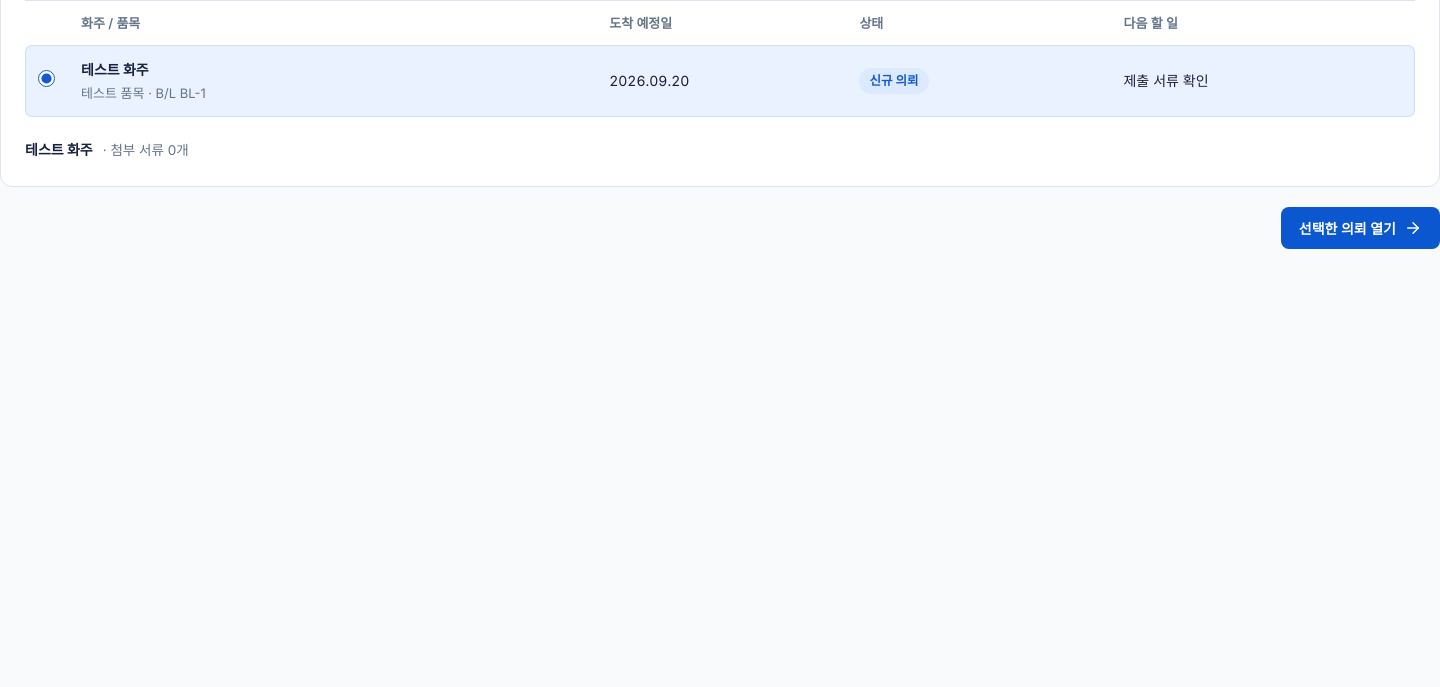
Test: forwarder task tabs › 서류를 골라 보완 요청을 보낸다 — 없는 필수 서류는 미리 골라 둔다
The width and height of the screenshot is (1440, 687).
Click the button "선택한 의뢰 열기" at (1360,228), box [1281,207,1439,249]
(page scrolled)
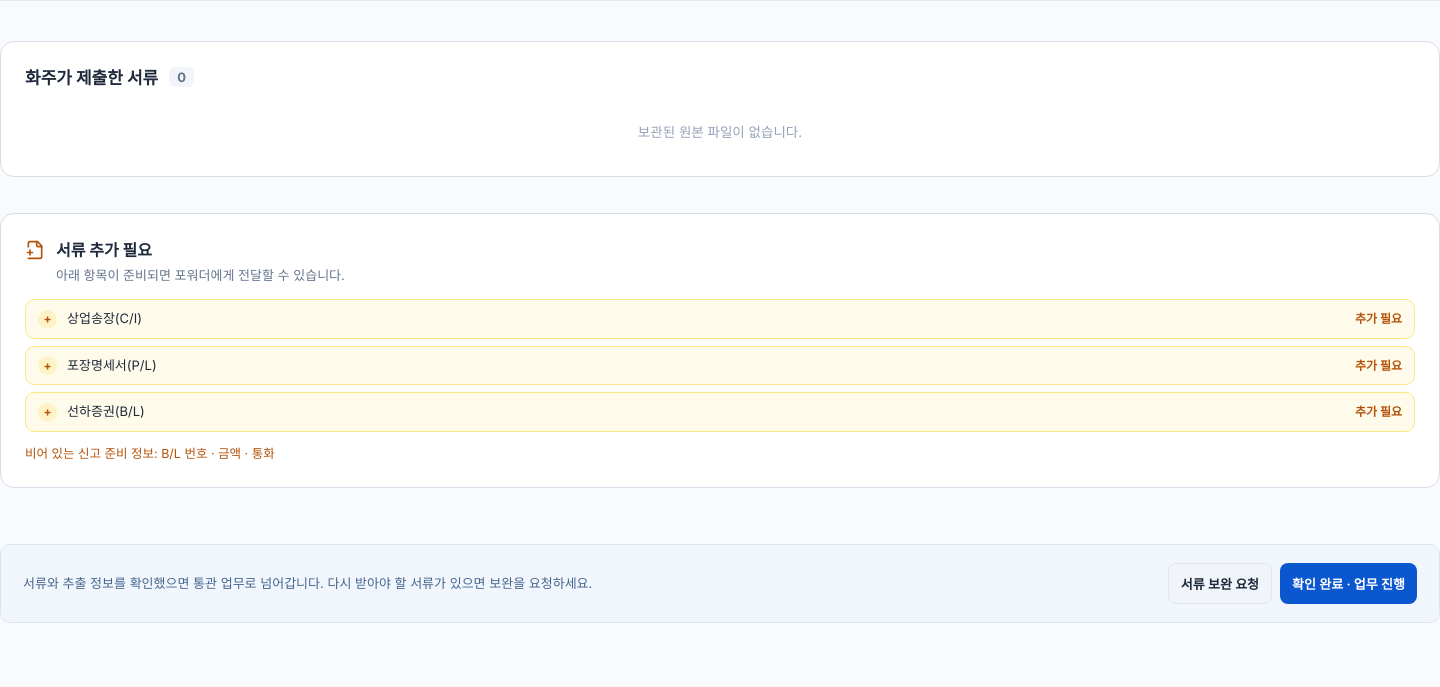
Click the button "서류 보완 요청" at (1220,584), box [1168,563,1272,604]
(page scrolled)
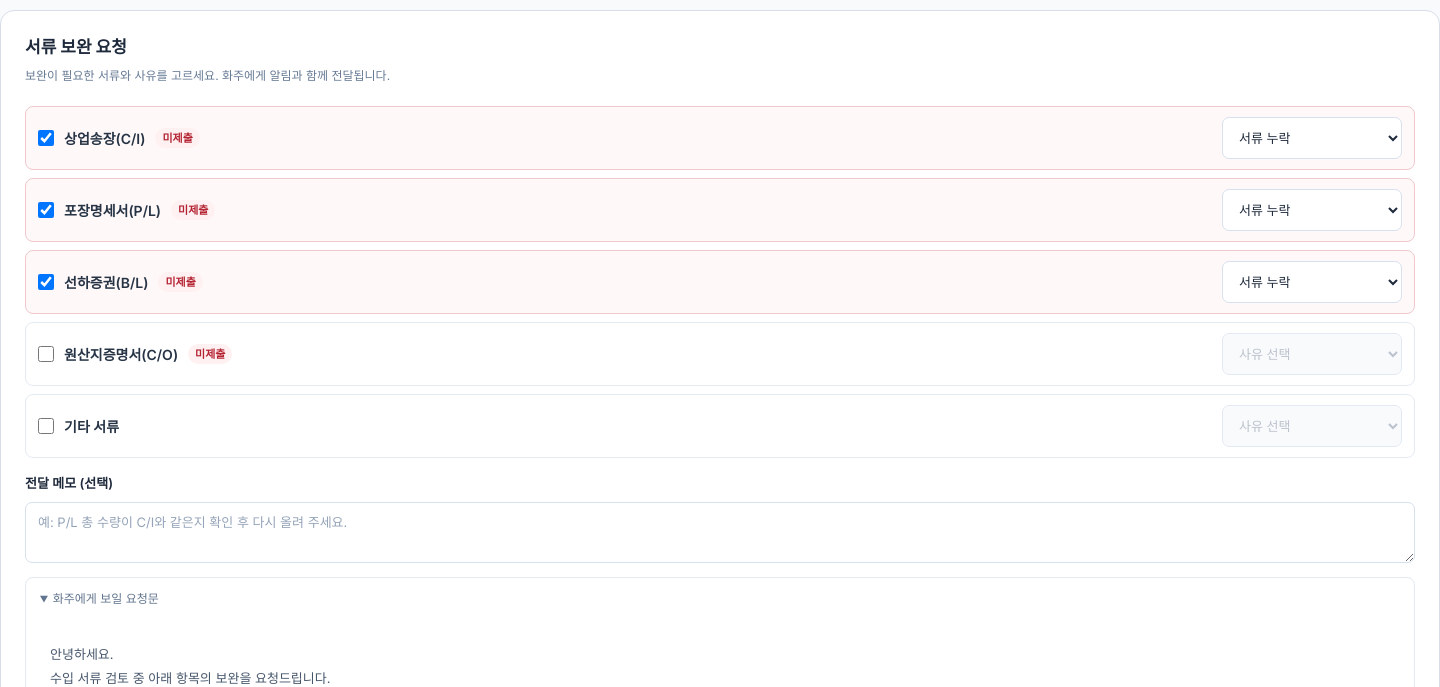
Result: the checkbox labelled "원산지증명서(C/O) 미제출" is not checked at [38,346,54,362]
Click the checkbox labelled "선하증권(B/L) 미제출" at (46,282), box [38,274,54,290]
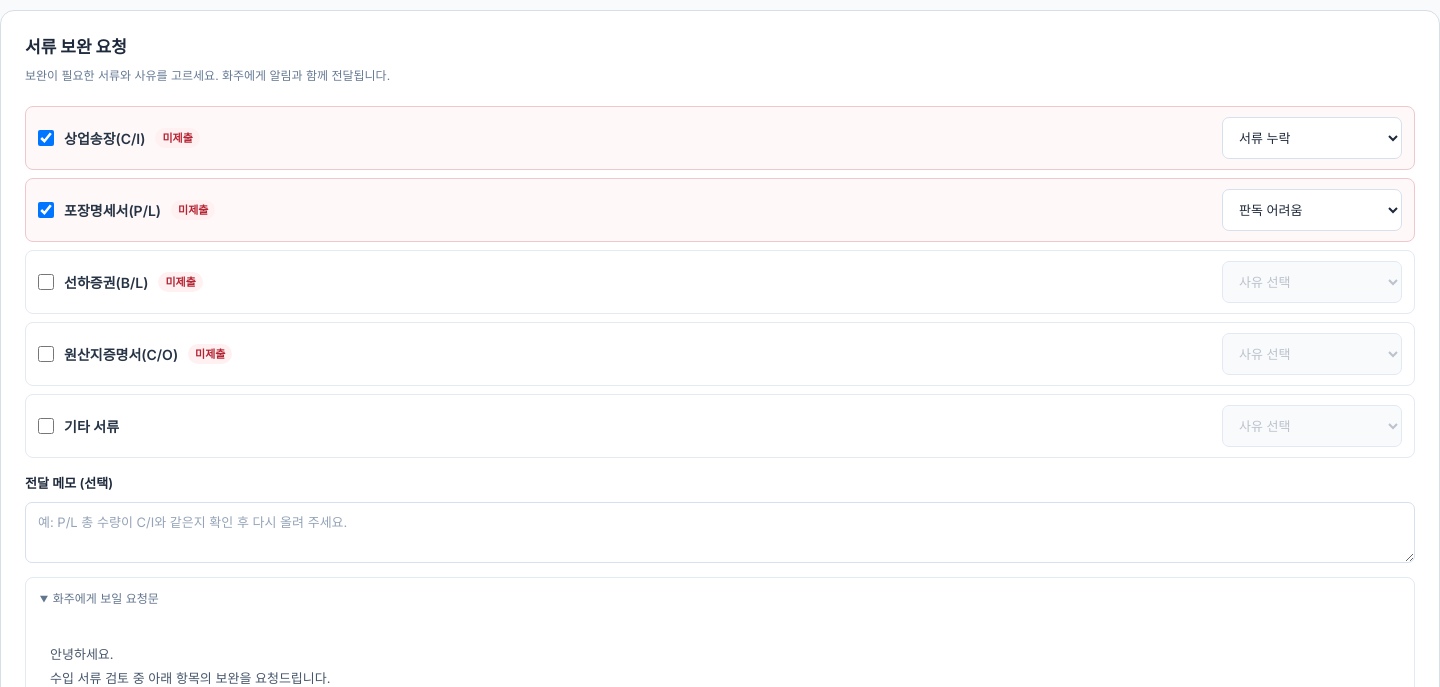
Select "판독 어려움" in the dropdown named "포장명세서(P/L) 보완 사유" at (1312,210), box [1222,189,1402,231]
(page scrolled)
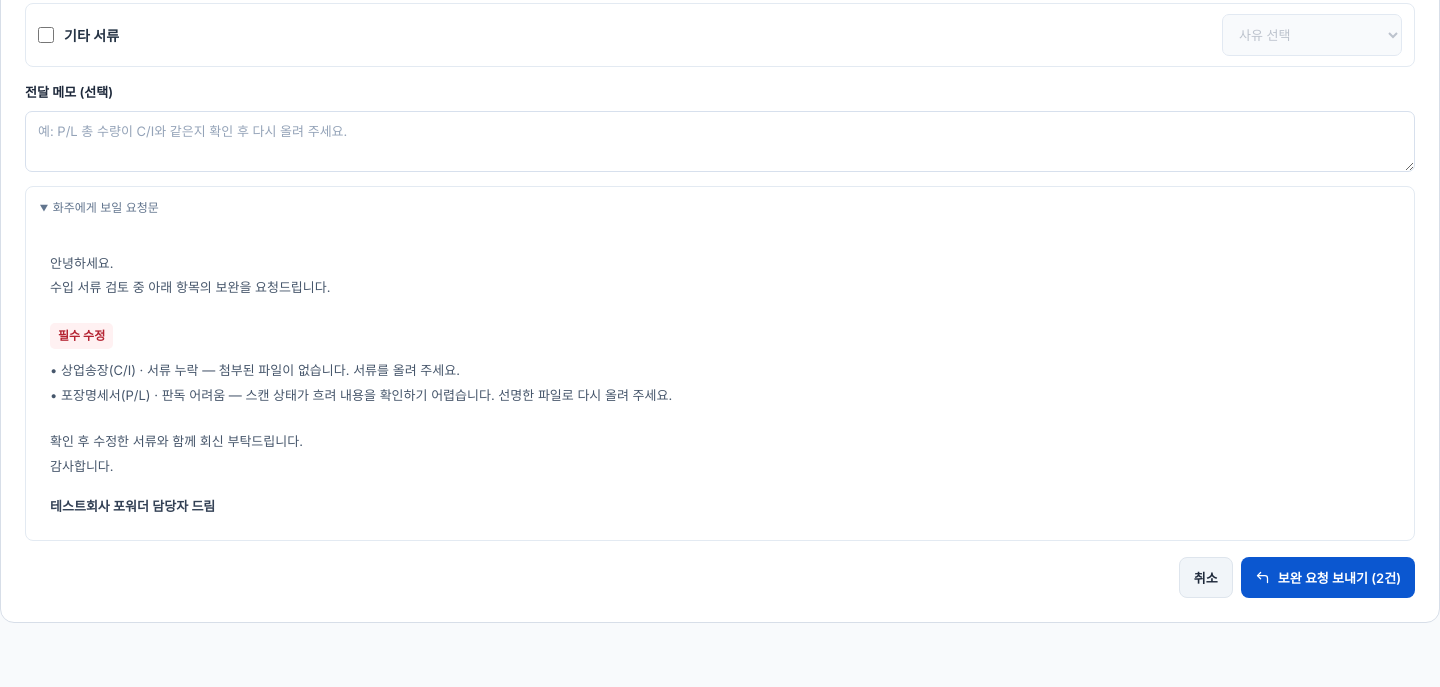
Click the button "보완 요청 보내기 (2건)" at (1328,578), box [1241,557,1415,598]
(page scrolled)
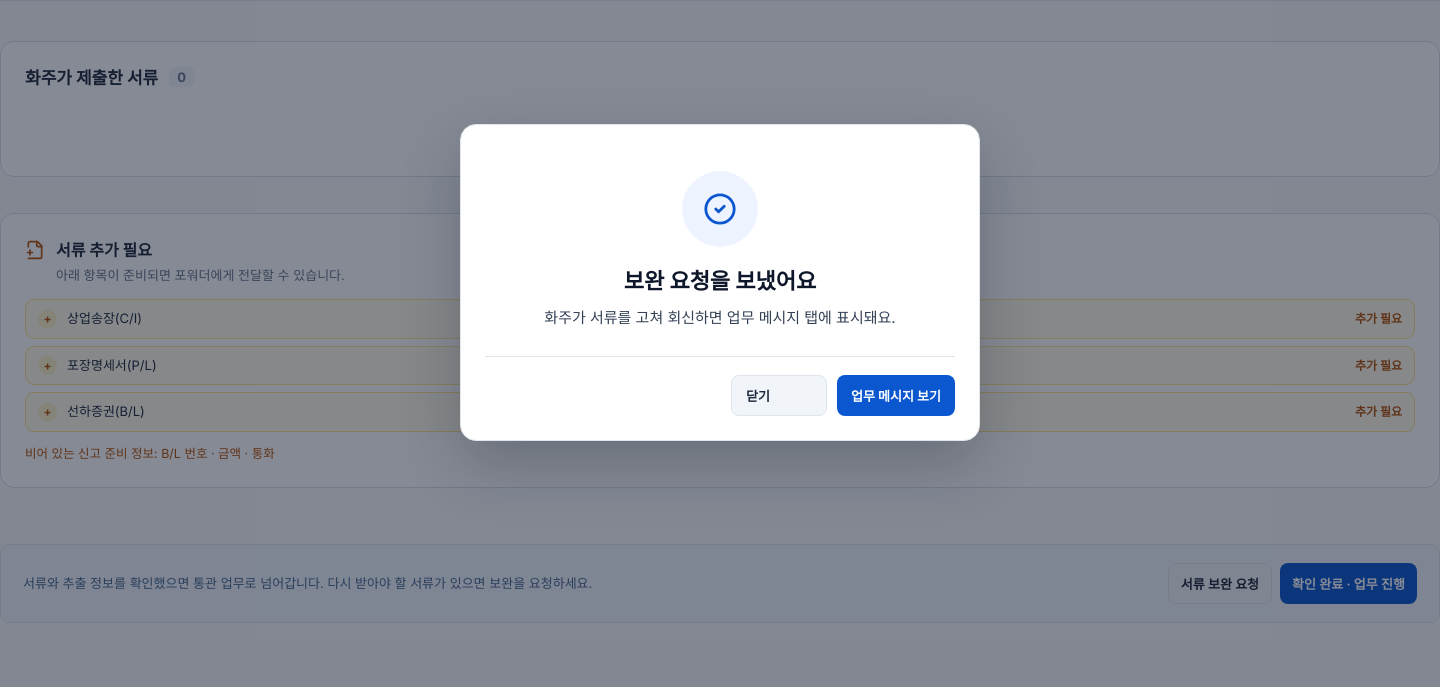
Result: the text "보완 요청을 보냈어요" is shown at [624,264,816,298]
